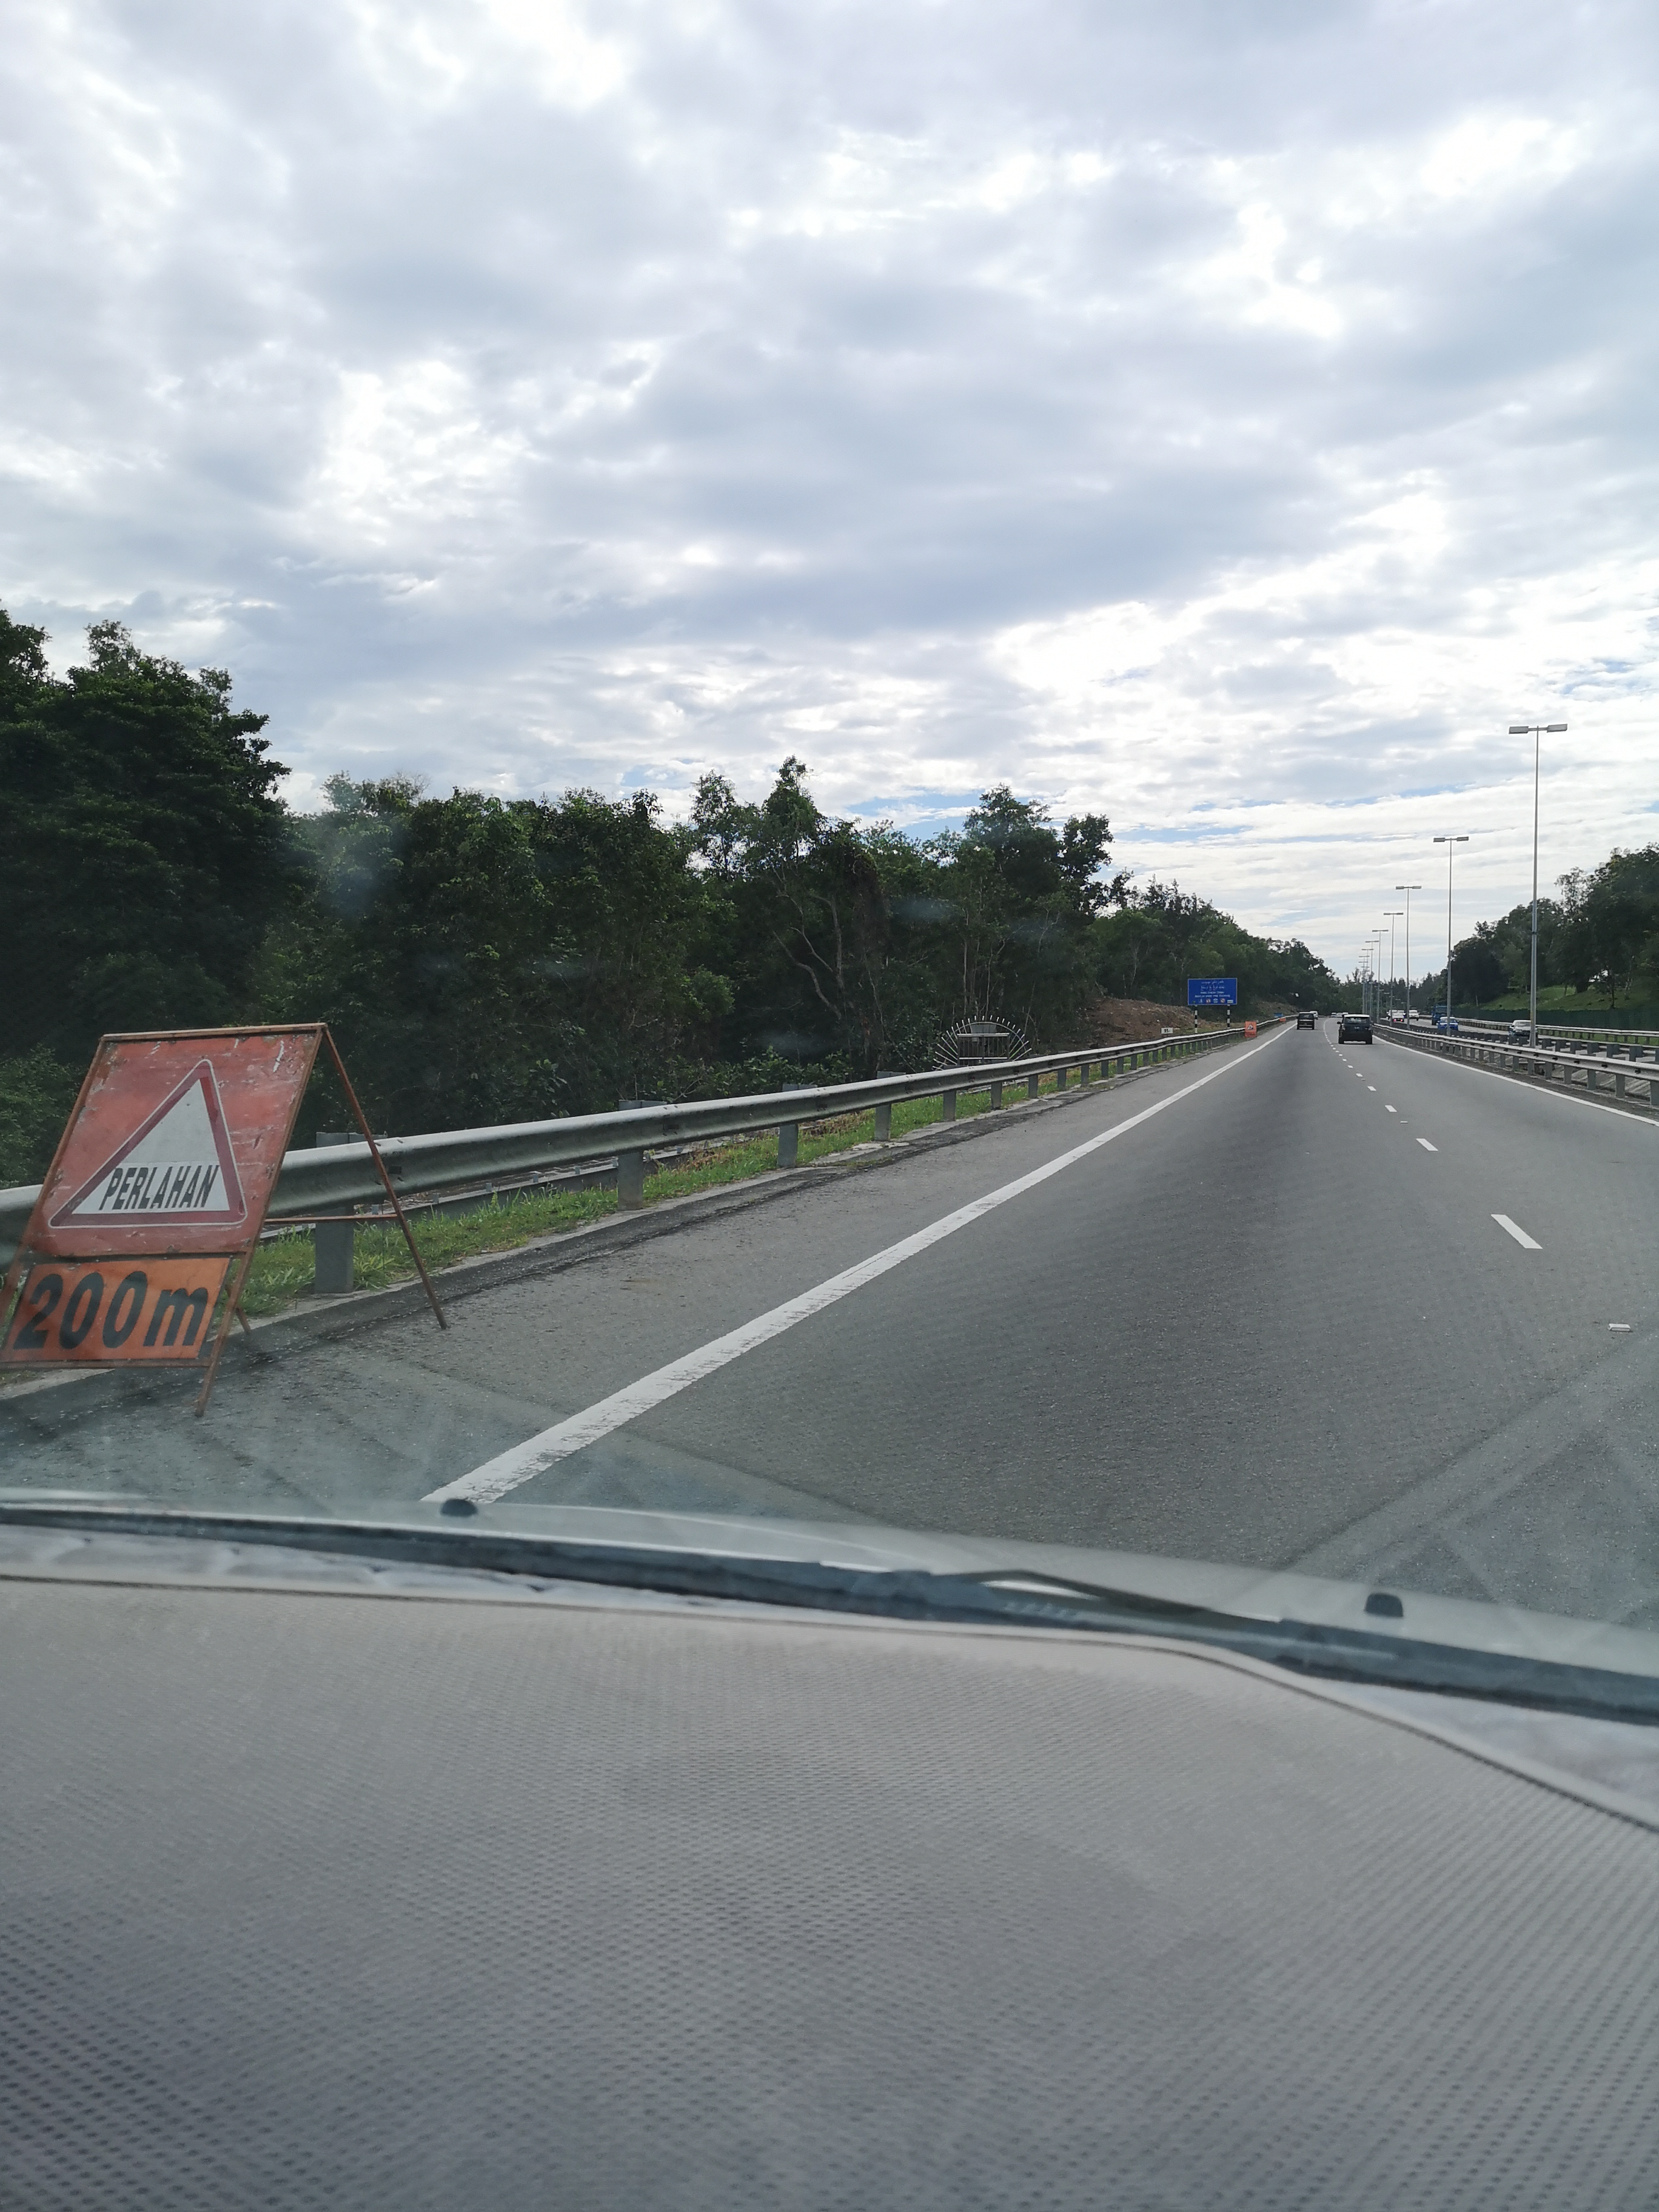200 m: (3, 1266, 225, 1364)
slow down: (0, 1026, 321, 1240)
